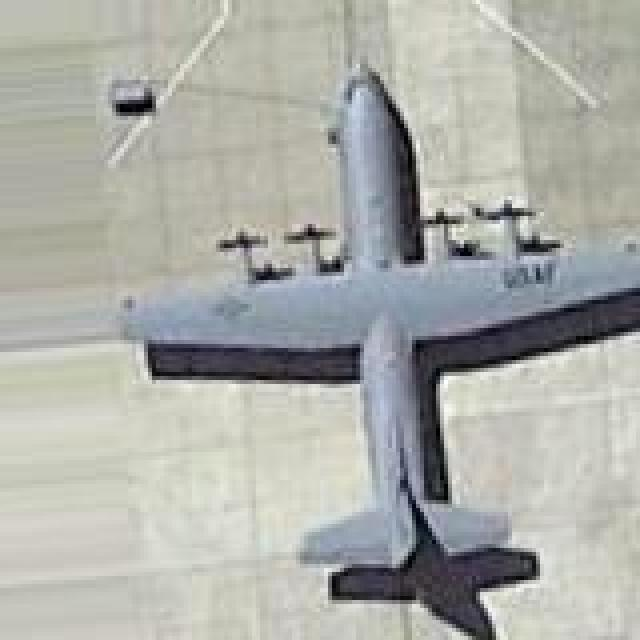C-130_TopDown: (104, 56, 640, 640)
